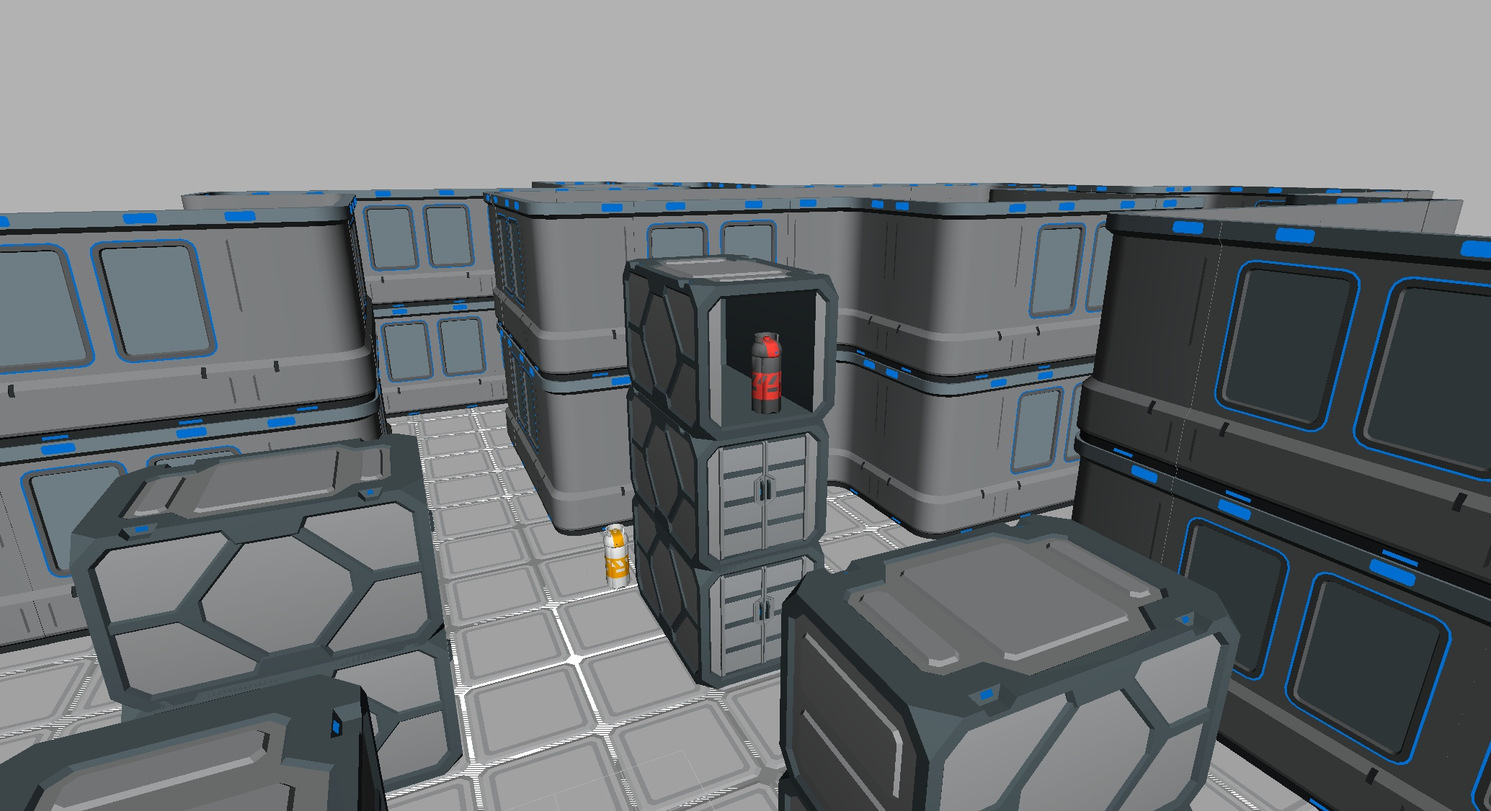red_barrel: (752, 333, 780, 413)
yellow_barrel: (602, 524, 631, 589)
